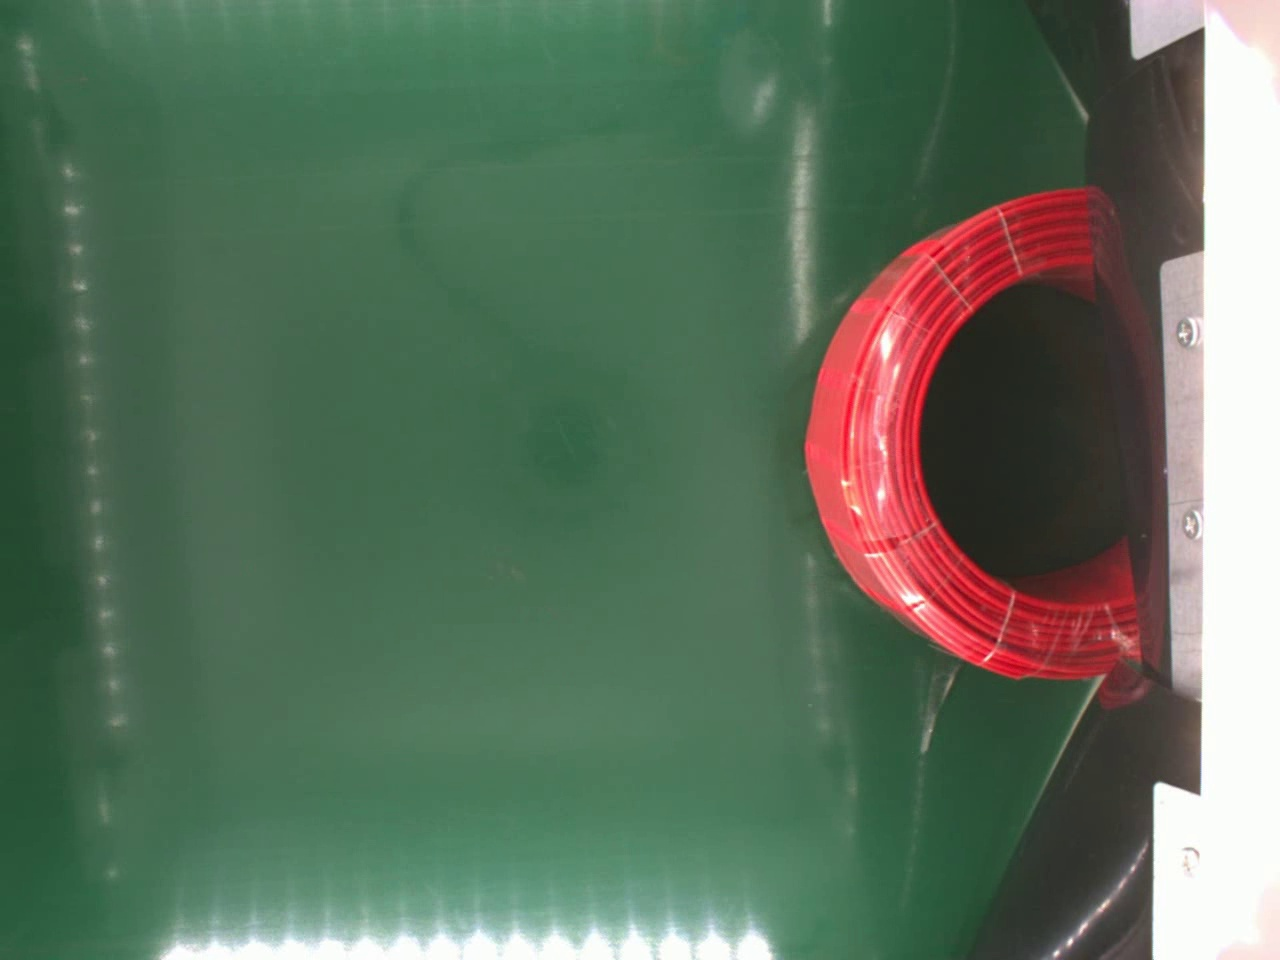red: (798, 184, 1143, 682)
